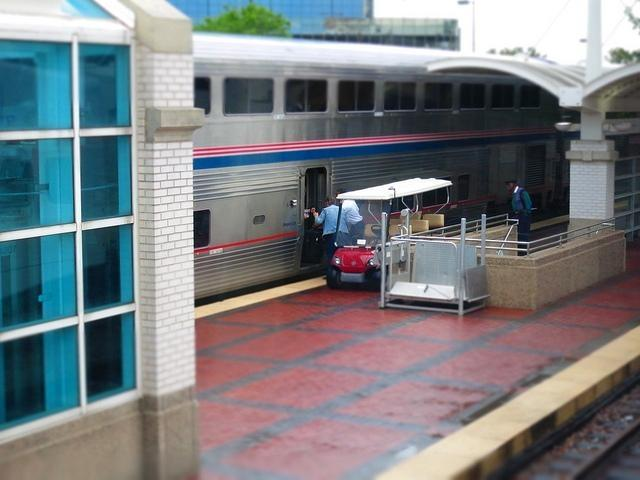car: (324, 175, 453, 289)
